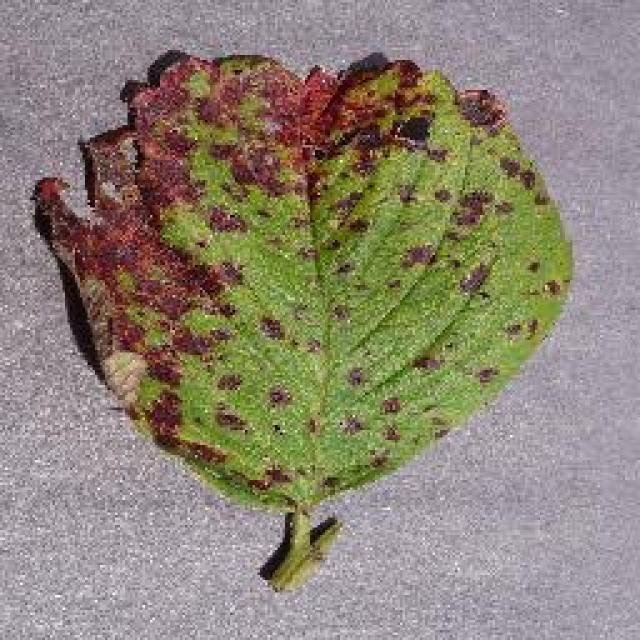Strawberry___Leaf_scorch: (20, 28, 585, 602)
